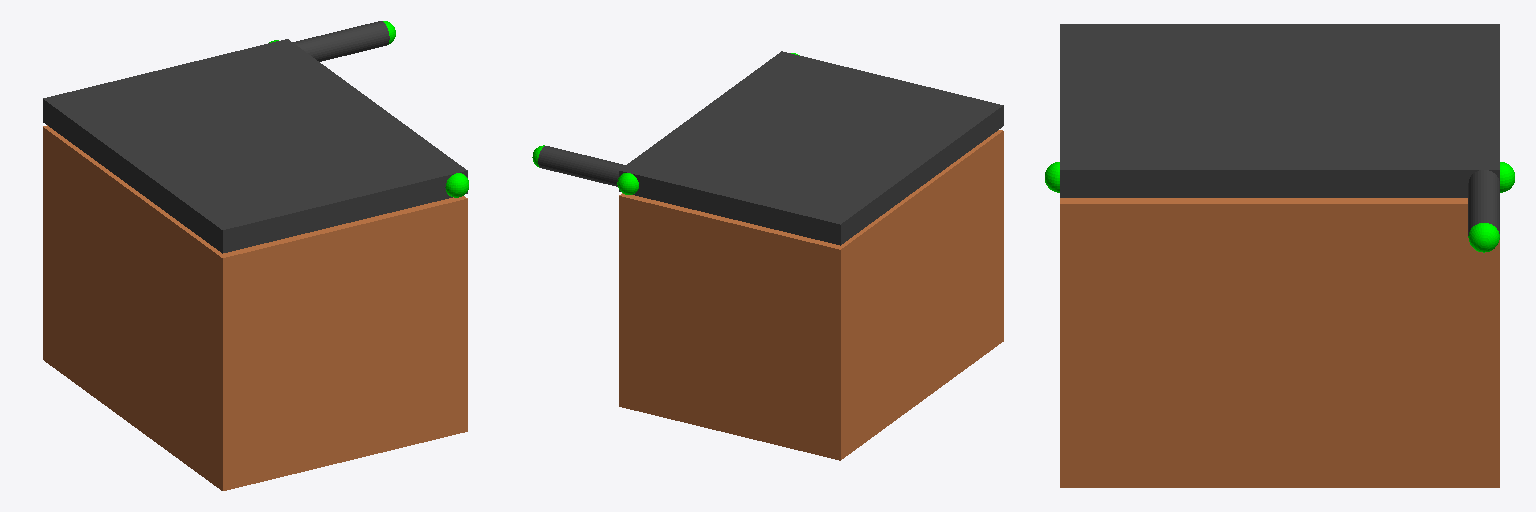
The robot description file, URDF, robot "chest":
<?xml version="1.0" ?>

<robot name="chest">
    <material name="Body">
        <color rgba="0.8 0.5 0.3 1.0"/>
    </material>
    <material name="Door">
        <color rgba="0.3 0.3 0.3 1.0"/>
    </material>
    <material name="KeyPoint">
        <color rgba="0 1 0 0.3"/>
    </material>

    <link name="chest_back_wall">
        <inertial>
            <origin rpy="0 0 0" xyz="0 0 0"/>
            <mass value="0"/>
            <inertia ixx="0.1" ixy="0" ixz="0" iyy="0.1" iyz="0" izz="0.1"/>
        </inertial>
        <visual>
            <origin rpy="0 0 0" xyz="0 0 0"/>
            <geometry>
                <box size="0.01 0.14 0.10"/>
            </geometry>
            <material name="Body"/>
        </visual>
        <collision>
            <origin rpy="0 0 0" xyz="0 0 0"/>
            <geometry>
                <box size="0.01 0.14 0.10"/>
            </geometry>
        </collision>
    </link>

    <joint name="chest_back_front_wall_joint" type="fixed">
        <origin rpy="0 0 0" xyz="0.10 0.0 0"/>
        <parent link="chest_back_wall"/>
        <child link="chest_front_wall"/>
    </joint>
    <link name="chest_front_wall">
        <inertial>
            <origin rpy="0 0 0" xyz="0 0 0"/>
            <mass value="0"/>
            <inertia ixx="0.1" ixy="0" ixz="0" iyy="0.1" iyz="0" izz="0.1"/>
        </inertial>
        <visual>
            <origin rpy="0 0 0" xyz="0 0 0"/>
            <geometry>
                <box size="0.01 0.14 0.10"/>
            </geometry>
            <material name="Body"/>
        </visual>
        <collision>
            <origin rpy="0 0 0" xyz="0 0 0"/>
            <geometry>
                <box size="0.01 0.14 0.10"/>
            </geometry>
        </collision>
    </link>

    <joint name="chest_back_left_wall_joint" type="fixed">
        <origin rpy="0 0 0" xyz="0.05 0.065 0"/>
        <parent link="chest_back_wall"/>
        <child link="chest_left_wall"/>
    </joint>
    <link name="chest_left_wall">
        <inertial>
            <origin rpy="0 0 0" xyz="0 0 0"/>
            <mass value="0"/>
            <inertia ixx="0.1" ixy="0" ixz="0" iyy="0.1" iyz="0" izz="0.1"/>
        </inertial>
        <visual>
            <origin rpy="0 0 0" xyz="0 0 0"/>
            <geometry>
                <box size="0.09 0.01 0.10"/>
            </geometry>
            <material name="Body"/>
        </visual>
        <collision>
            <origin rpy="0 0 0" xyz="0 0 0"/>
            <geometry>
                <box size="0.09 0.01 0.10"/>
            </geometry>
        </collision>
    </link>

    <joint name="chest_back_right_wall_joint" type="fixed">
        <origin rpy="0 0 0" xyz="0.05 -0.065 0.0"/>
        <parent link="chest_back_wall"/>
        <child link="chest_right_wall"/>
    </joint>
    <link name="chest_right_wall">
        <inertial>
            <origin rpy="0 0 0" xyz="0 0 0"/>
            <mass value="0"/>
            <inertia ixx="0.1" ixy="0" ixz="0" iyy="0.1" iyz="0" izz="0.1"/>
        </inertial>
        <visual>
            <origin rpy="0 0 0" xyz="0 0 0"/>
            <geometry>
                <box size="0.09 0.01 0.10"/>
            </geometry>
            <material name="Body"/>
        </visual>
        <collision>
            <origin rpy="0 0 0" xyz="0 0 0"/>
            <geometry>
                <box size="0.09 0.01 0.10"/>
            </geometry>
        </collision>
    </link>

    <joint name="chest_back_wall_door_joint" type="prismatic">
        <origin rpy="0 0 0" xyz="0.05 0.0 0.057"/>
        <parent link="chest_back_wall"/>
        <child link="chest_door"/>
        <axis xyz="-1 0 0"/>
        <limit effort="200" lower="0.0" upper="0.10" velocity="10"/>
    </joint>
    <link name="chest_door">
        <inertial>
            <origin rpy="0 0 0" xyz="0 0 0"/>
            <mass value="2"/>
            <inertia ixx="0.1" ixy="0" ixz="0" iyy="0.1" iyz="0" izz="0.1"/>
        </inertial>
        <visual>
            <origin rpy="0 0 0" xyz="0 0 0"/>
            <geometry>
                <box size="0.11 0.14 0.01"/>
            </geometry>
            <material name="Door"/>
        </visual>
        <collision>
            <origin rpy="0 0 0" xyz="0 0 0"/>
            <geometry>
                <box size="0.11 0.14 0.01"/>
            </geometry>
        </collision>
    </link>

    <joint name="chest_door_left_keypoint_joint" type="fixed">
        <origin rpy="0 0 0" xyz="0.05 0.07 0.0"/>
        <parent link="chest_door"/>
        <child link="chest_door_left_keypoint"/>
    </joint>
    <link name="chest_door_left_keypoint">
        <inertial>
            <origin rpy="0 0 0" xyz="0 0 0"/>
            <mass value="0.0"/>
            <inertia ixx="0.1" ixy="0" ixz="0" iyy="0.1" iyz="0" izz="0.1"/>
        </inertial>
        <visual>
            <origin rpy="0 0 0" xyz="0 0 0"/>
            <geometry>
                <sphere radius="0.005"/>
            </geometry>
            <material name="KeyPoint"/>
        </visual>
    </link>
    <joint name="chest_door_right_keypoint_joint" type="fixed">
        <origin rpy="0 0 0" xyz="0.05 -0.07 0.0"/>
        <parent link="chest_door"/>
        <child link="chest_door_right_keypoint"/>
    </joint>
    <link name="chest_door_right_keypoint">
        <inertial>
            <origin rpy="0 0 0" xyz="0 0 0"/>
            <mass value="0.0"/>
            <inertia ixx="0.1" ixy="0" ixz="0" iyy="0.1" iyz="0" izz="0.1"/>
        </inertial>
        <visual>
            <origin rpy="0 0 0" xyz="0 0 0"/>
            <geometry>
                <sphere radius="0.005"/>
            </geometry>
            <material name="KeyPoint"/>
        </visual>
    </link>

    <joint name="chest_door_handle_joint" type="fixed">
        <origin rpy="0 1.57 0" xyz="0.07 0.065 0.0"/>
        <parent link="chest_door"/>
        <child link="chest_door_handle"/>
    </joint>
    <link name="chest_door_handle">
        <contact>
            <lateral_friction value="1.0"/>
            <rolling_friction value="0.0"/>
            <inertia_scaling value="3.0"/>
            <contact_cfm value="0.0"/>
            <contact_erp value="1.0"/>
        </contact>
        <inertial>
            <origin rpy="0 0 0" xyz="0 0 0"/>
            <mass value="2"/>
            <inertia ixx="0.1" ixy="0" ixz="0" iyy="0.1" iyz="0" izz="0.1"/>
        </inertial>
        <visual>
            <origin rpy="0 0 0" xyz="0 0 0"/>
            <geometry>
                <cylinder radius="0.005" length="0.05"/>
            </geometry>
            <material name="Door"/>
        </visual>
        <collision>
            <origin rpy="0 0 0" xyz="0 0 0"/>
            <geometry>
                <cylinder radius="0.005" length="0.05"/>
            </geometry>
        </collision>
    </link>
    <joint name="chest_door_handle_keypoint_joint" type="fixed">
        <origin rpy="0 0 0" xyz="0.0 0.0 0.025"/>
        <parent link="chest_door_handle"/>
        <child link="chest_door_handle_keypoint"/>
    </joint>
    <link name="chest_door_handle_keypoint">
        <inertial>
            <origin rpy="0 0 0" xyz="0 0 0"/>
            <mass value="0.0"/>
            <inertia ixx="0.1" ixy="0" ixz="0" iyy="0.1" iyz="0" izz="0.1"/>
        </inertial>
        <visual>
            <origin rpy="0 0 0" xyz="0 0 0"/>
            <geometry>
                <sphere radius="0.005"/>
            </geometry>
            <material name="KeyPoint"/>
        </visual>
    </link>
</robot>

--- Facts derived from the render (not from the file) ---
Views: 3 orthographic renders of the robot side by side, from view 1: azimuth 30°, elevation 25°; view 2: azimuth 150°, elevation 25°; view 3: azimuth 270°, elevation 25°.
Robot: chest — 9 links, 8 joints (1 prismatic, 7 fixed); root link chest_back_wall; default pose: every joint at zero.
Links seen in each view (by area): view 1: chest_door, chest_back_wall, chest_right_wall, chest_front_wall, chest_door_handle; view 2: chest_door, chest_back_wall, chest_left_wall, chest_front_wall, chest_door_handle; view 3: chest_front_wall, chest_door, chest_door_handle, chest_door_handle_keypoint.
Link boxes in pixels (x1,y1,x2,y2): chest_door: (43,39,467,253); chest_back_wall: (43,125,244,490); chest_right_wall: (240,201,444,485); chest_front_wall: (441,196,467,436); chest_door_handle: (293,21,389,61); chest_door: (619,51,1003,245); chest_back_wall: (820,130,1003,460); chest_left_wall: (639,198,823,455); chest_front_wall: (619,193,642,410); chest_door_handle: (538,146,625,186); chest_front_wall: (1060,198,1499,487); chest_door: (1060,24,1499,197); chest_door_handle: (1468,170,1499,235); chest_door_handle_keypoint: (1468,223,1499,252).
Size in the robot's own frame: 0.155 by 0.15 by 0.112 metres.
Geometry: primitives only (box / cylinder / sphere), no mesh files.